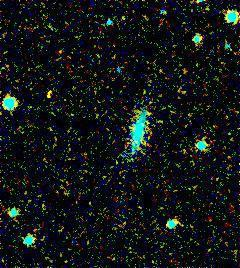star: (37, 75, 67, 105)
